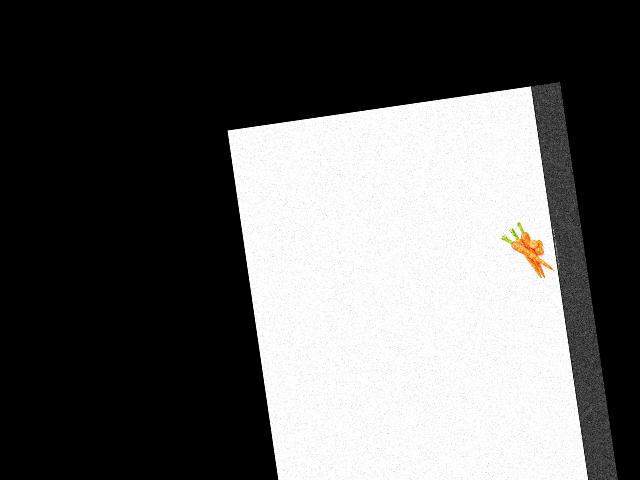carrot: (514, 226, 543, 283)
